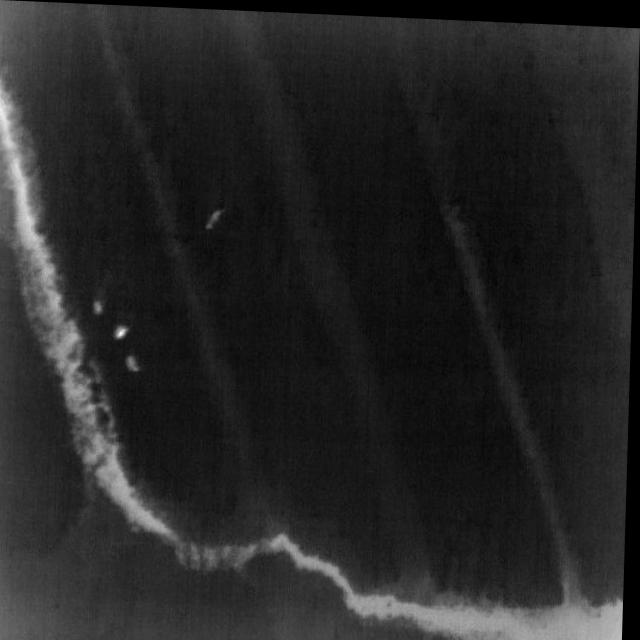deer: (206, 206, 226, 229), (114, 322, 132, 340), (126, 353, 143, 372), (94, 299, 106, 315)
